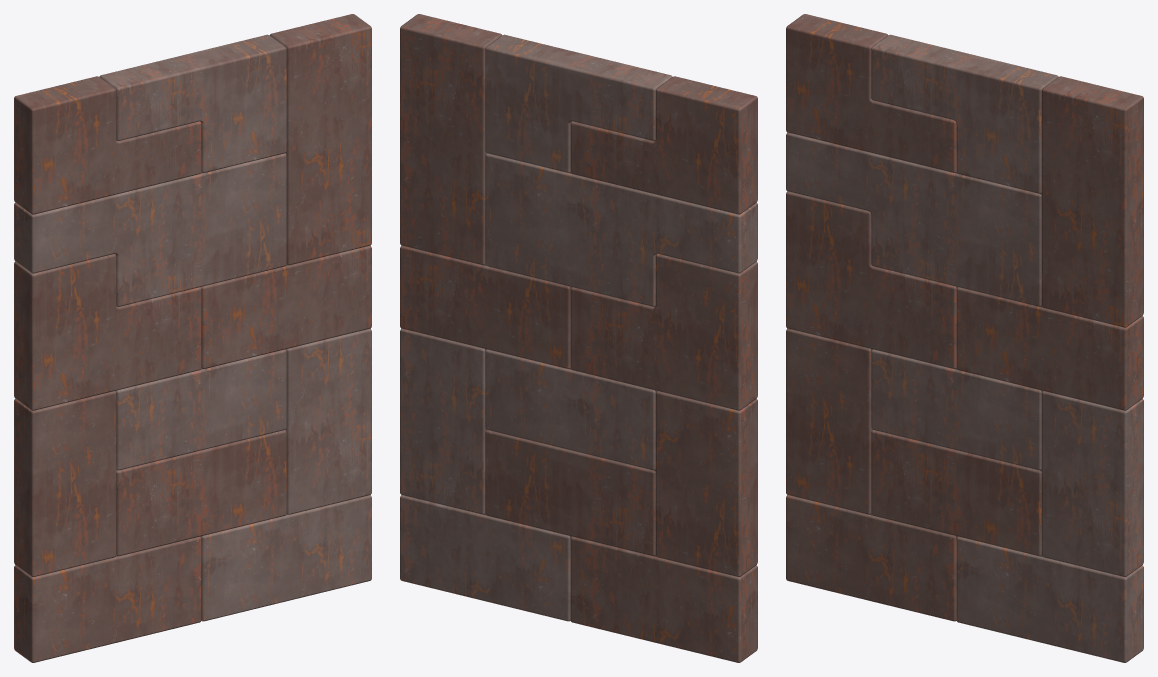
Rendered from wall_001.fbx.
3 renders of one model, left to right at view 1: azimuth 30°, elevation 25°; view 2: azimuth 150°, elevation 25°; view 3: azimuth 330°, elevation 25°, orthographic.
Visible parts, largest first — view 1: wall_001; view 2: wall_001; view 3: wall_001.
Boxes of the visible parts, <box> form: wall_001: <box>14,14,371,662</box>; wall_001: <box>400,14,757,662</box>; wall_001: <box>786,14,1143,662</box>.
Bounding box in the file's own units: 15527 × 1500 × 24154.
